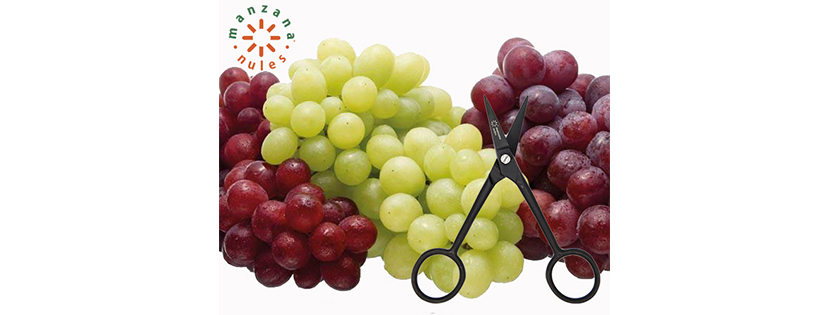Green grapes: (329, 63, 517, 297)
Red Grapes: (485, 45, 640, 273), (199, 115, 365, 297)
